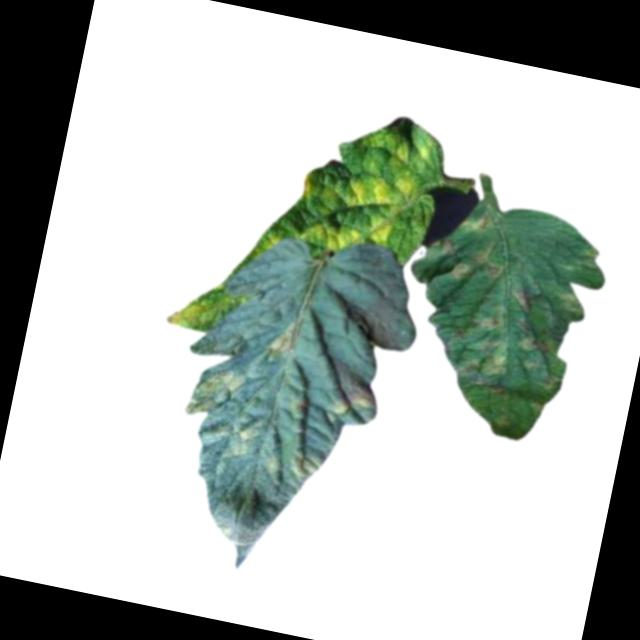Leaf_Mold: (312, 165, 419, 265), (183, 363, 244, 423), (451, 234, 509, 291), (320, 374, 382, 426), (211, 411, 261, 460), (472, 332, 515, 385), (264, 312, 303, 362), (514, 321, 560, 362), (454, 193, 501, 233), (165, 293, 210, 334), (288, 449, 325, 485), (507, 284, 543, 317), (554, 289, 585, 321), (295, 171, 317, 199)
